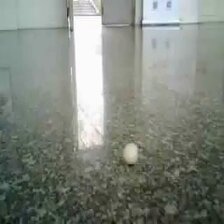w: (121, 141, 143, 167)
